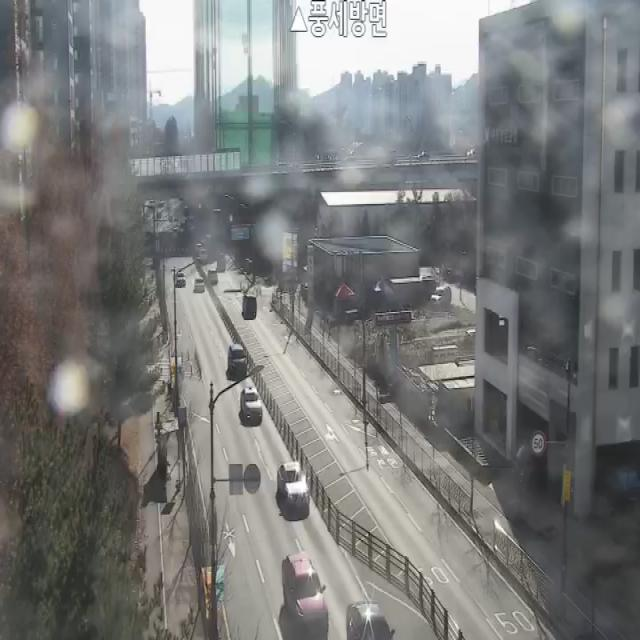Car: (282, 550, 329, 630), (347, 601, 395, 640), (276, 462, 310, 512), (240, 387, 262, 423), (228, 344, 247, 379), (430, 284, 452, 304), (242, 293, 256, 319), (194, 276, 205, 294), (176, 272, 187, 288), (207, 268, 218, 284)
